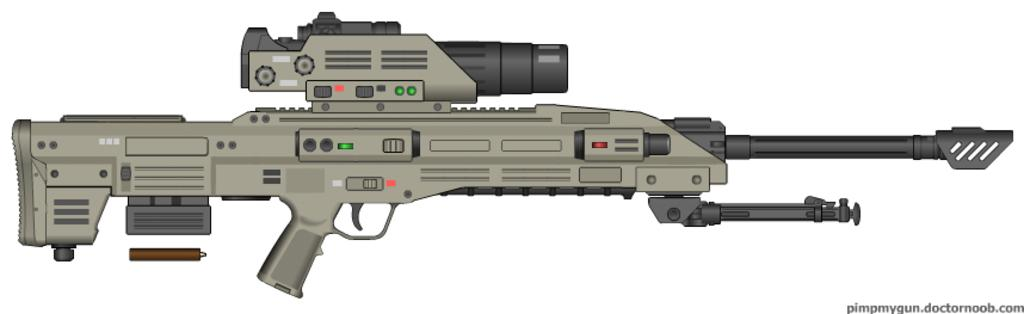Rifle: (27, 39, 1023, 307)
